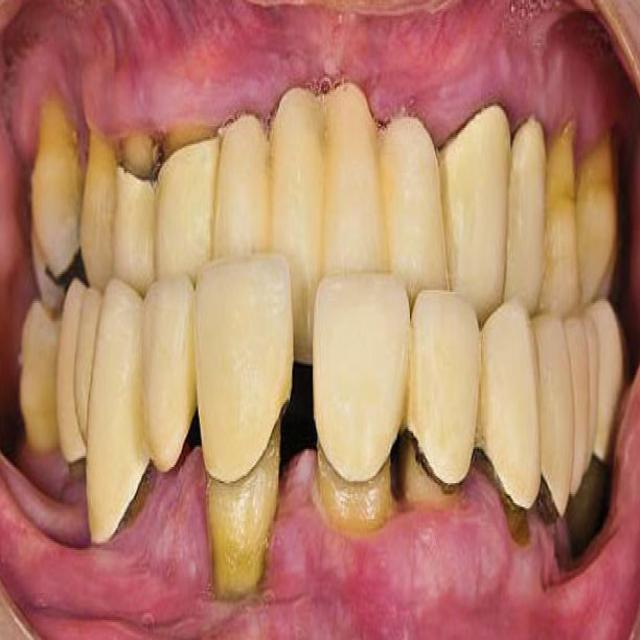caries: (403, 432, 466, 518), (482, 451, 532, 552), (116, 454, 154, 536), (539, 476, 563, 524)
